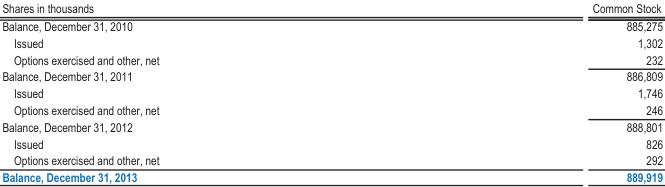table: (1, 0, 662, 183)
table column: (1, 0, 375, 183), (375, 0, 662, 183)
table column header: (1, 0, 662, 16)
table row: (1, 16, 662, 33), (1, 33, 662, 50), (1, 50, 662, 67), (1, 67, 662, 84), (1, 84, 662, 101), (1, 117, 662, 134), (1, 134, 662, 151), (1, 151, 662, 168), (1, 0, 662, 16), (1, 101, 662, 117), (1, 168, 662, 183)
